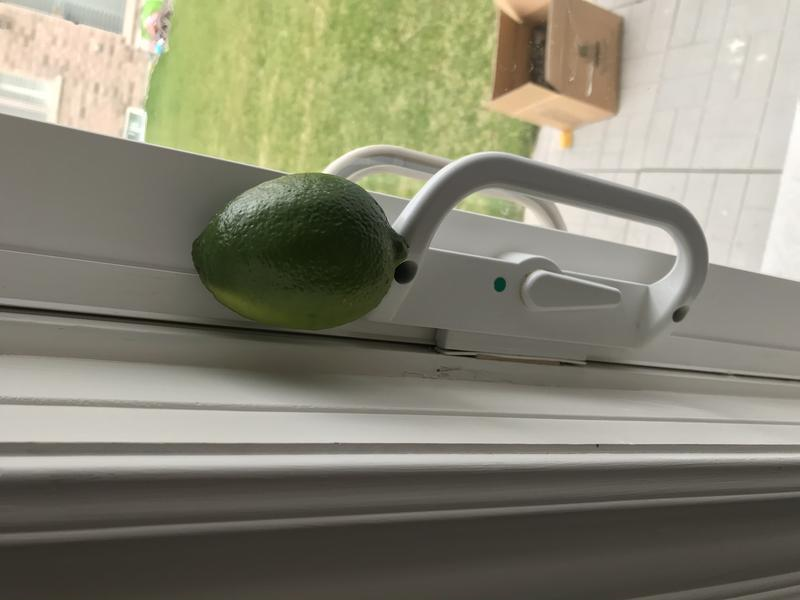lime: (181, 160, 418, 342)
